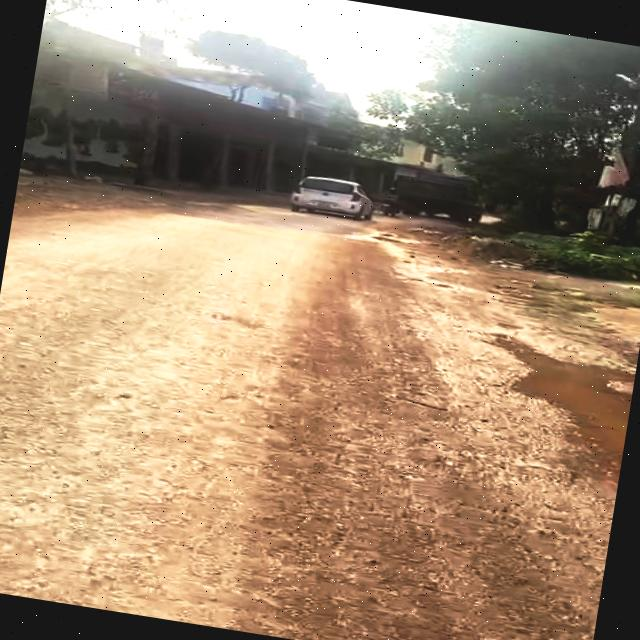pothole: (464, 331, 638, 497)
